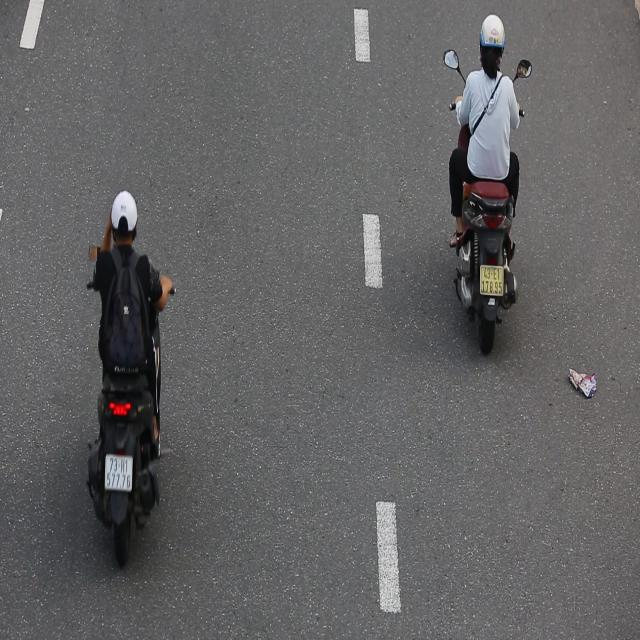motorbike: (82, 186, 181, 572), (442, 11, 535, 365)
